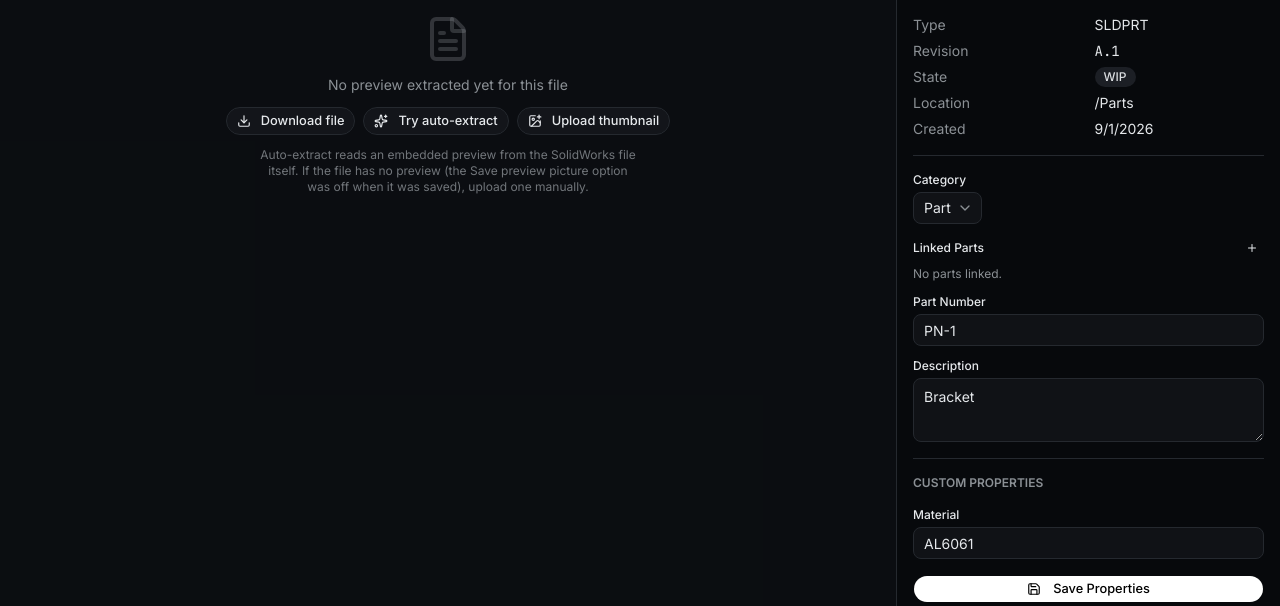
Test: FileDetailPanel — a refresh does not wipe unsaved property edits › says so when someone else changed the field being edited, and can take their value
Expected: the field labelled "Part Number" holds "PN-1", [913,314,1264,346]
Step 1. Replace the text in the text box labelled "Description" with "Mine" → (1088, 410), box [913,378,1264,442]
(page scrolled)
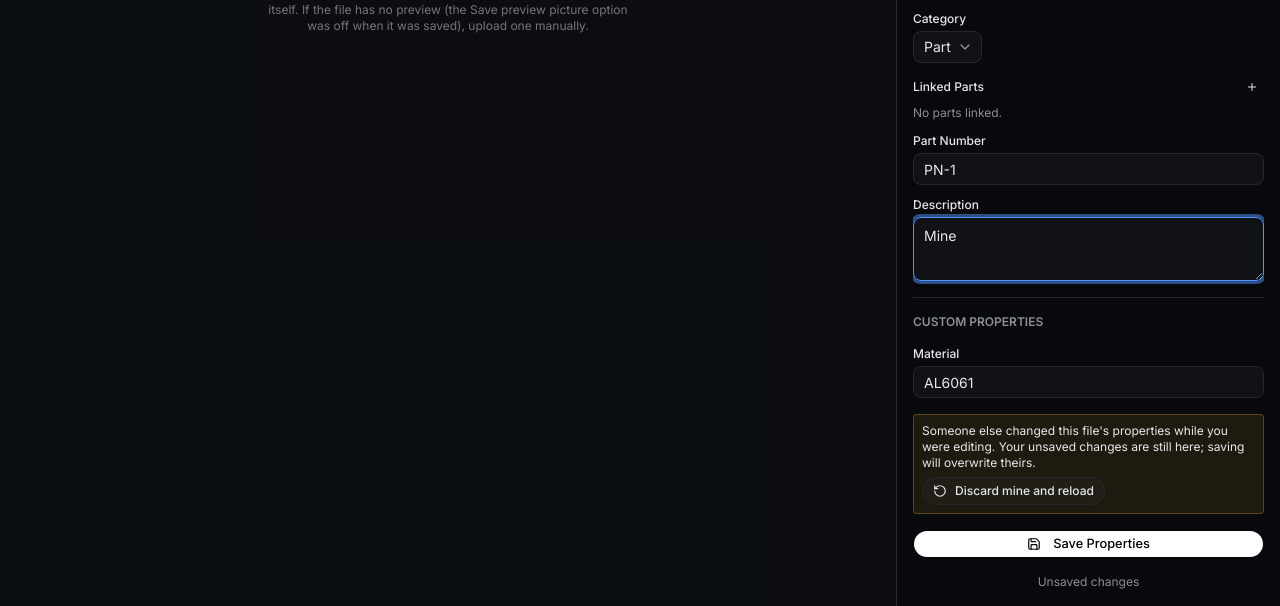
Result: the message shows "changed this file" at [922,423,1244,470]
Step 2. Click the button "Discard mine and reload" → (1013, 491), box [922,477,1105,505]
(page scrolled)
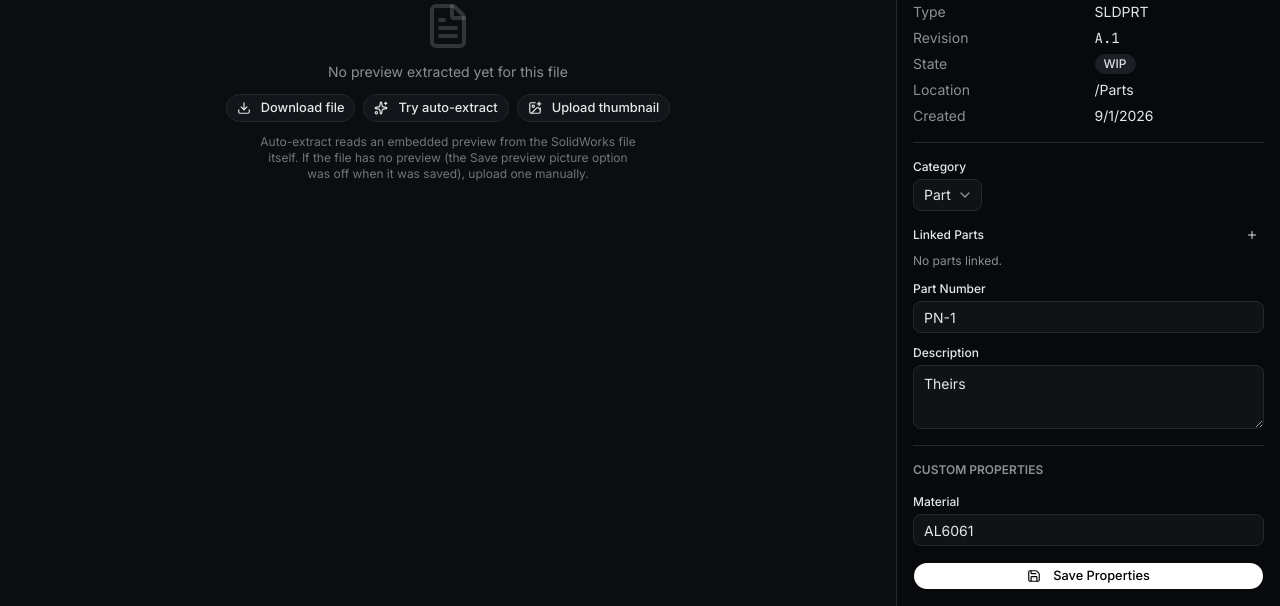
Result: the text box labelled "Description" holds "Theirs" at [913,365,1264,429]
Result: the message is gone
